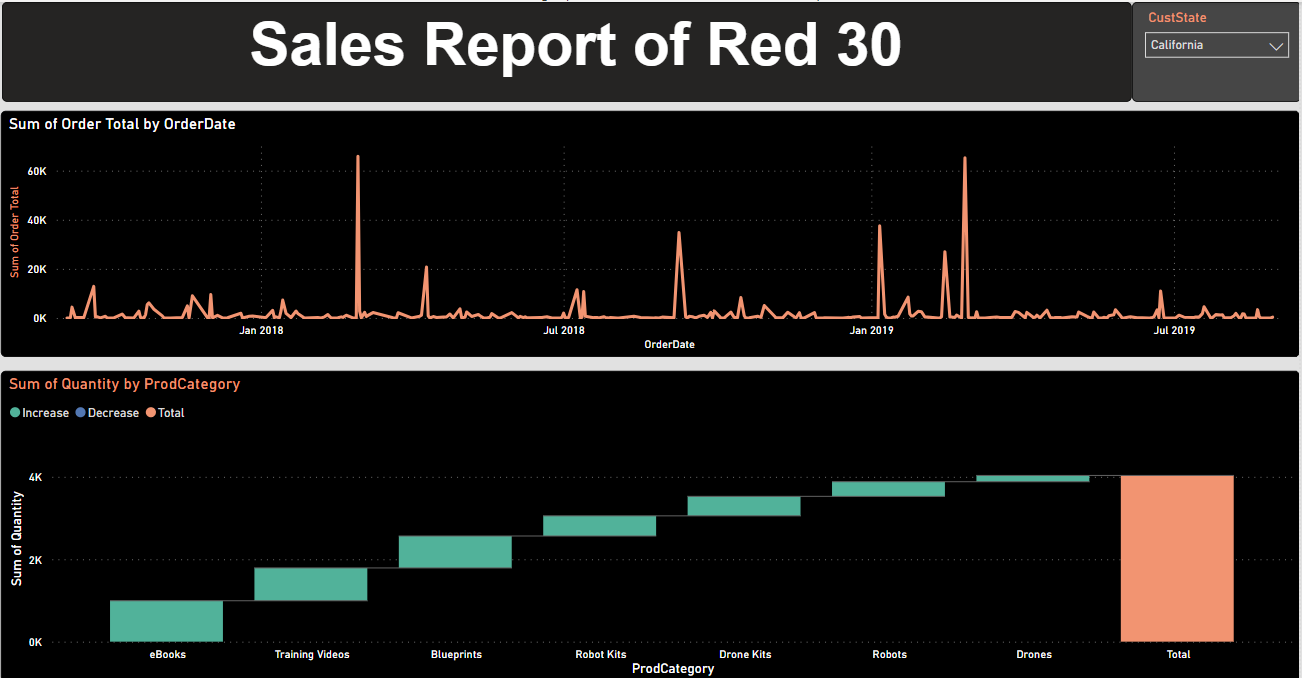

This screenshot's page, from the dashboard's own definition file:
{"tool":"powerbi","page":{"name":"Summary Report","canvas":[1280,720],"ordinal":0},"visuals":[{"type":"textbox","box":[9.8,0,1105.1,97.8],"z":0},{"type":"lineChart","fields":{"Category":["Table_1.OrderDate"],"Y":["Sum(Table_1.Order Total)"]},"box":[8.6,106.3,1271.3,240.8],"z":1000},{"type":"waterfallChart","fields":{"Category":["Table_1.ProdCategory"],"Y":["Sum(Table_1.Quantity)"]},"box":[8.6,360.6,1271.3,304.4],"z":2000},{"type":"slicer","fields":{"Values":["Table_1.CustState"]},"box":[1114.8,0,166.2,97.8],"z":3000}]}

Visuals, with their boxes on the page's 1280x720 design canvas (x1, y1, x2, y2). These are canvas units, not pixel positions in the 1302x678 screenshot, which may show the page scaled, cropped or inside an application window:
textbox: <box>10,0,1115,98</box>
lineChart - Table_1.OrderDate x Sum(Table_1.Order Total): <box>9,106,1280,347</box>
waterfallChart - Table_1.ProdCategory x Sum(Table_1.Quantity): <box>9,361,1280,665</box>
slicer - Table_1.CustState: <box>1115,0,1281,98</box>
